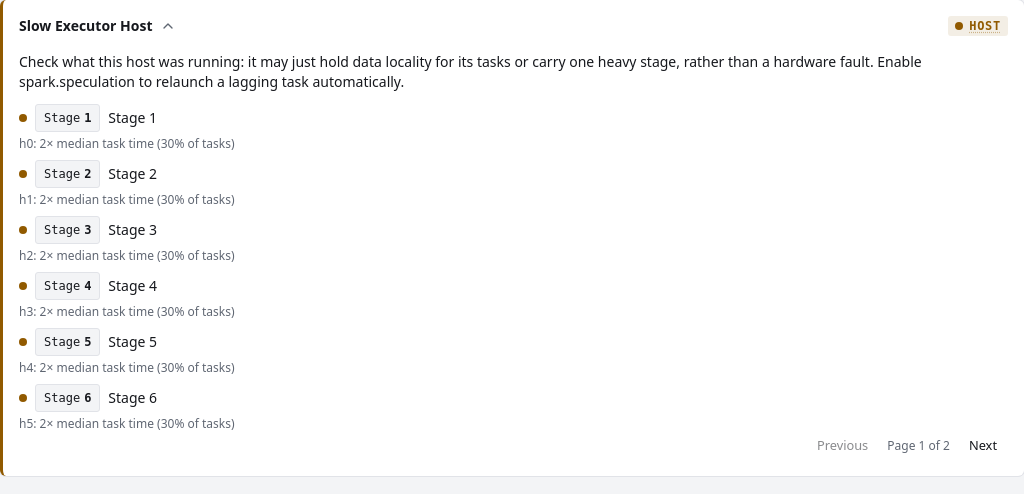
Test: paginates the issue list 6-at-a-time
The image size is (1024, 494).
Check: the text "Page 1 of 2" is shown, box [887,438,950,454]
Click the button "Next": point(983, 446) [958,432,1008,460]
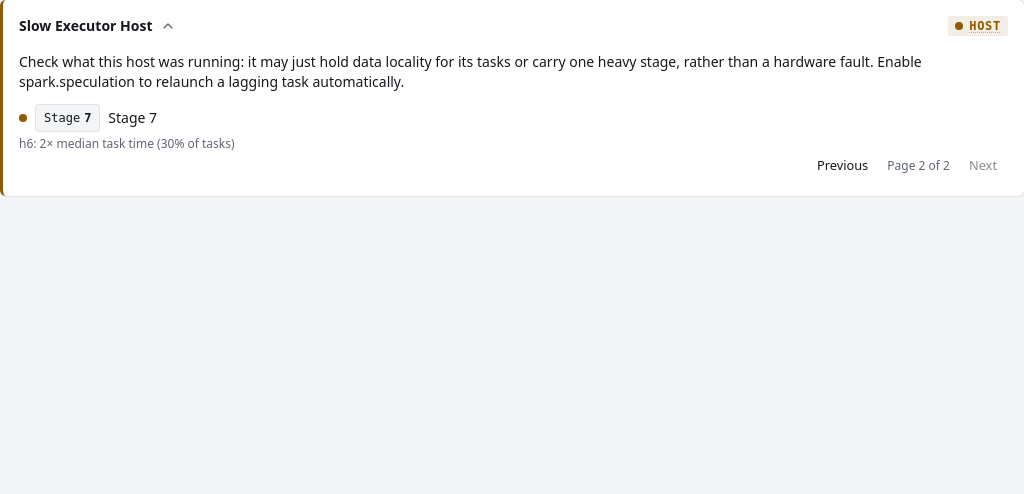
Check: the text "Page 2 of 2" is shown, box [887,158,950,174]
